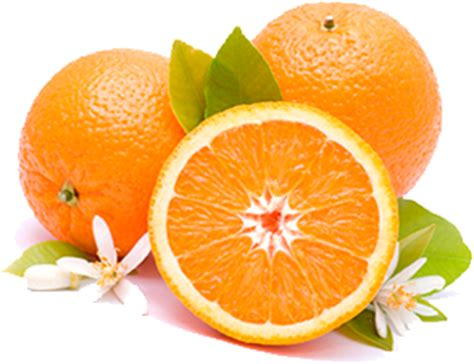orange: (224, 1, 439, 200), (14, 45, 173, 271)
